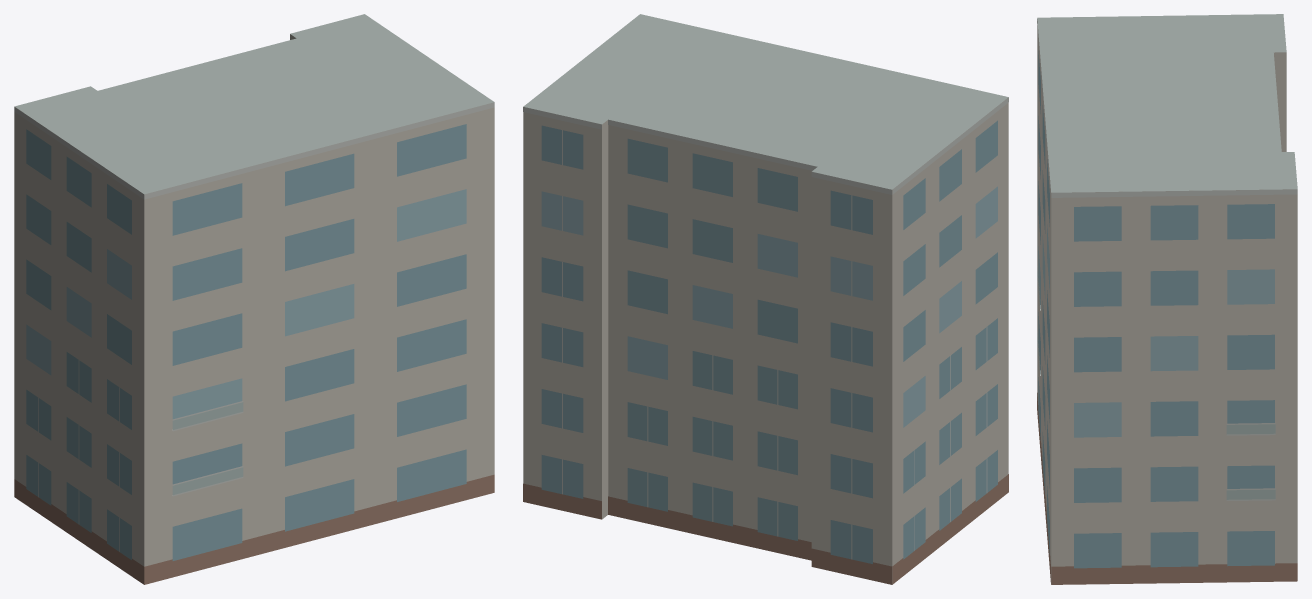
The model's file is survey-upis-32972919.glb.
The picture shows the model from 3 angles, left to right: view 1: azimuth 30°, elevation 25°; view 2: azimuth 150°, elevation 25°; view 3: azimuth 270°, elevation 25°; orthographic projection.
Visible parts, largest first — view 1: survey-upis-32972919.tmp; view 2: survey-upis-32972919.tmp; view 3: survey-upis-32972919.tmp.
Part boxes in pixels (x1,y1,x2,y2): survey-upis-32972919.tmp: [14, 14, 494, 584]; survey-upis-32972919.tmp: [523, 14, 1008, 584]; survey-upis-32972919.tmp: [1037, 14, 1297, 584].
Bounding box in the file's own units: 17.9 × 18.3 × 11.03.
